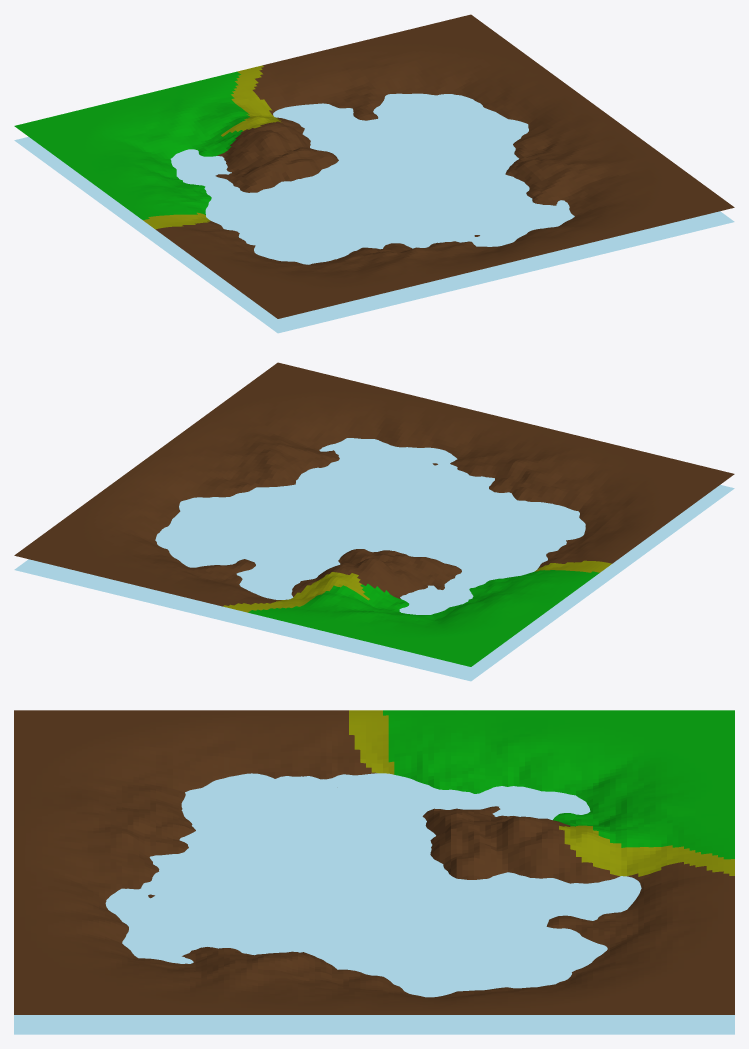
The model's file is multimaterial_COLONLY.gltf.
3 renders of one model, top to bottom at view 1: azimuth 30°, elevation 25°; view 2: azimuth 150°, elevation 25°; view 3: azimuth 270°, elevation 25°, orthographic. The views are drawn at different scales.
Visible parts, largest first — view 1: Landscape, Landscape_plane; view 2: Landscape, Landscape_plane; view 3: Landscape, Landscape_plane.
Part boxes in pixels (bbox=[...]): Landscape: bbox=[14, 14, 734, 318]; Landscape_plane: bbox=[14, 93, 734, 333]; Landscape: bbox=[14, 362, 734, 666]; Landscape_plane: bbox=[14, 438, 734, 681]; Landscape: bbox=[14, 710, 734, 1014]; Landscape_plane: bbox=[14, 773, 734, 1034].
Size of what is drawn, in the model's own units: 200 by 13.1 by 200.
